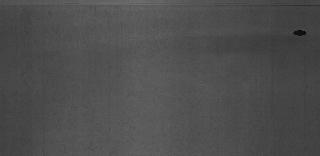punching hole: (292, 28, 308, 38)
welding line: (3, 2, 320, 14)
